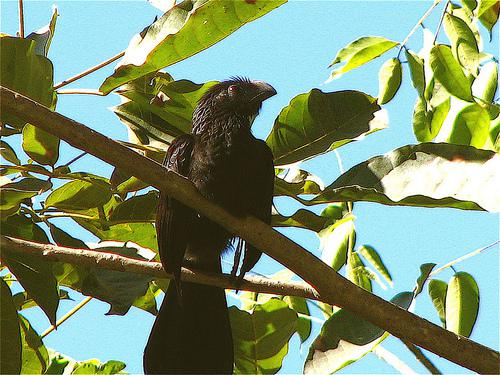004.Groove_billed_Ani: (142, 75, 279, 375)
